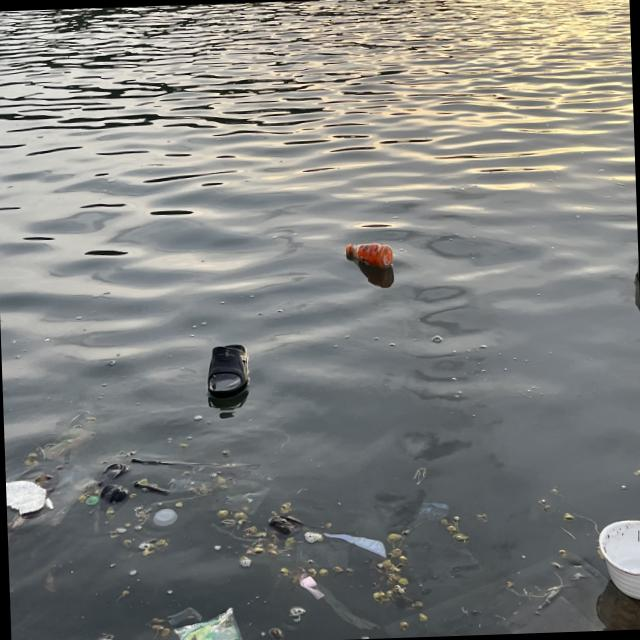foam: (600, 519, 640, 603), (7, 478, 48, 517)
plastic bottle: (346, 243, 397, 271)
